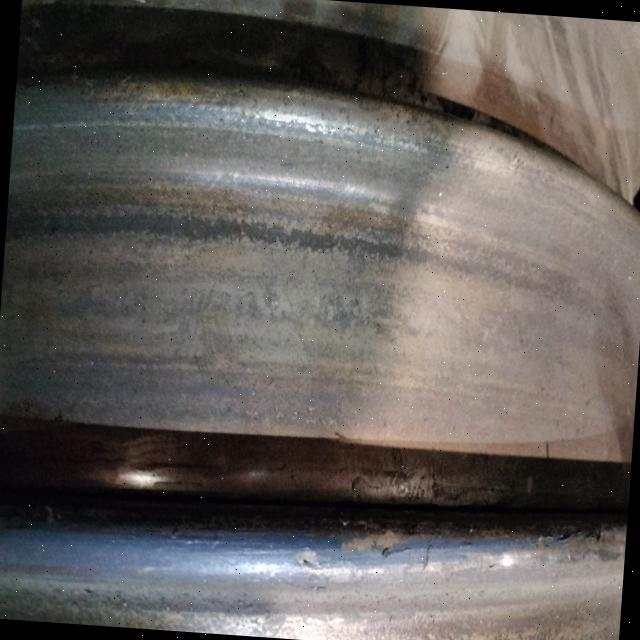Contact_Fatigue_Cracks: (439, 510, 618, 576), (327, 452, 461, 511)
Peeling: (105, 209, 448, 269)
